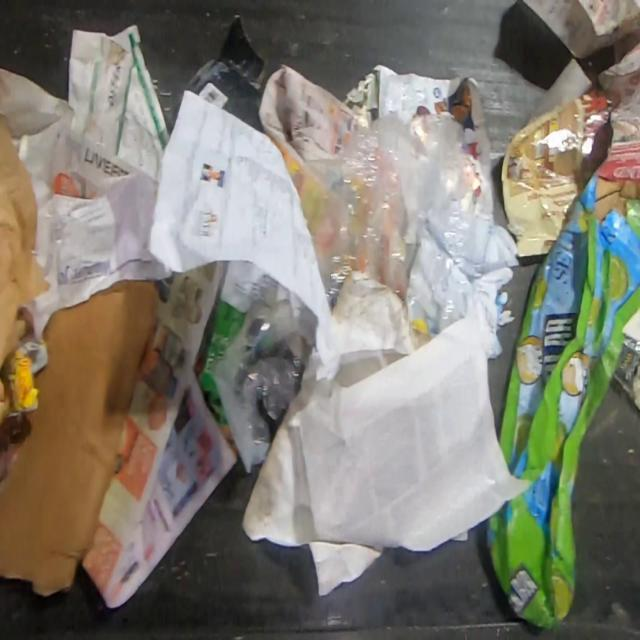cardboard: (484, 171, 640, 631), (612, 347, 640, 414)
soft_plastic: (0, 278, 162, 602), (294, 104, 482, 354), (210, 278, 316, 476)
